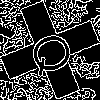Q: (25, 25, 85, 79)
